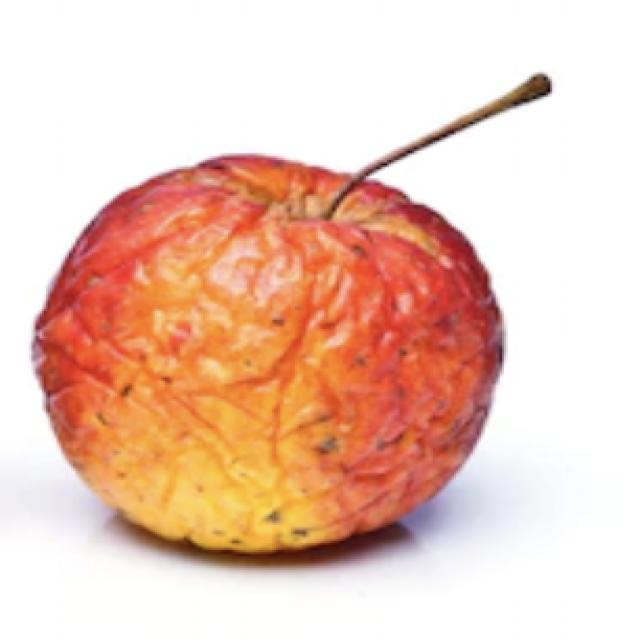Rotten: (33, 155, 502, 570)
